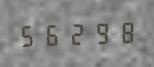eight: (110, 18, 132, 45)
five: (18, 22, 40, 48)
nine: (87, 19, 109, 45)
six: (41, 21, 63, 47)
two: (64, 20, 86, 46)
